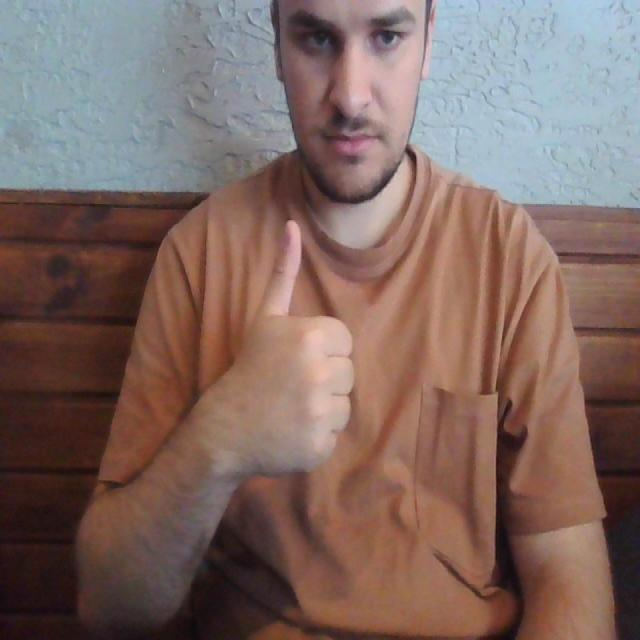Tamam: (214, 209, 359, 484)
